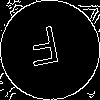F: (25, 25, 64, 76)
